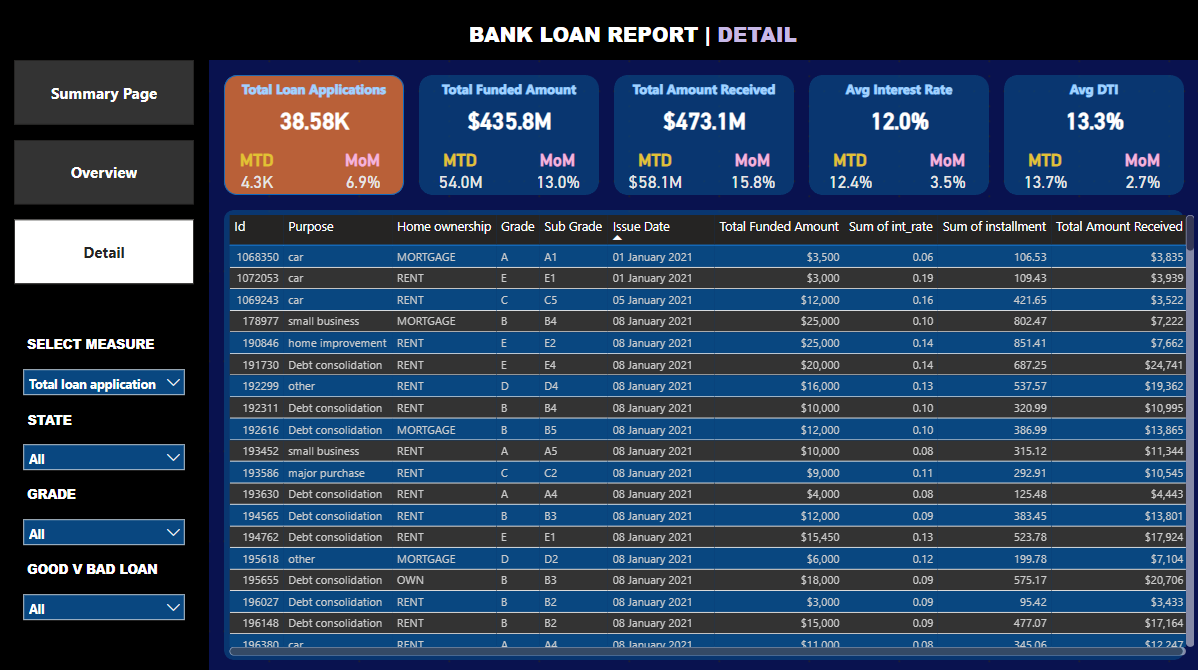

This screenshot's page, from the dashboard's own definition file:
{"tool":"powerbi","page":{"name":"Detail","canvas":[1280,720],"ordinal":2},"visuals":[{"type":"shape","box":[0,0,224,720],"z":0},{"type":"shape","box":[240,80,192,128],"z":0,"group":"g1"},{"type":"shape","box":[448,80,192,128],"z":0,"group":"g2"},{"type":"shape","box":[656,80,192,128],"z":0,"group":"g3"},{"type":"shape","box":[864,80,192,128],"z":0,"group":"g4"},{"type":"shape","box":[1072,80,192,128],"z":0,"group":"g5"},{"type":"shape","box":[240,224,1024,480],"z":1000},{"type":"shape","box":[0,0,1280,64],"z":2000},{"type":"textbox","box":[496,16,416,48],"z":3000},{"type":"group","id":"g1","title":"Group 1","box":[240,80,192,128],"z":4000},{"type":"card","fields":{"Values":["bank_loan.Total loan application"]},"box":[274.9,112,122.2,32],"z":4000,"group":"g1"},{"type":"card","fields":{"Values":["bank_loan.Total funded amount"]},"box":[482.9,112,122.2,32],"z":4000,"group":"g2"},{"type":"card","fields":{"Values":["bank_loan.Total amount received"]},"box":[690.9,112,122.2,32],"z":4000,"group":"g3"},{"type":"card","fields":{"Values":["bank_loan.avg int rate"]},"box":[898.9,112,122.2,32],"z":4000,"group":"g4"},{"type":"card","fields":{"Values":["bank_loan.Avg Dti"]},"box":[1106.9,112,122.2,32],"z":4000,"group":"g5"},{"type":"textbox","box":[240,80,192,32],"z":5000,"group":"g1"},{"type":"group","id":"g2","title":"Group 2","box":[448,80,192,128],"z":5000},{"type":"textbox","box":[448,80,192,32],"z":5000,"group":"g2"},{"type":"textbox","box":[656,80,192,32],"z":5000,"group":"g3"},{"type":"textbox","box":[864,80,192,32],"z":5000,"group":"g4"},{"type":"textbox","box":[1072,80,192,32],"z":5000,"group":"g5"},{"type":"group","id":"g3","title":"Group 2","box":[656,80,192,128],"z":6000},{"type":"card","title":"MTD","fields":{"Values":["bank_loan.MTD loan application"]},"box":[240,160,69.8,48],"z":6000,"group":"g1"},{"type":"card","title":"MTD","fields":{"Values":["bank_loan.MTD funded amount"]},"box":[448,160,87.3,48],"z":6000,"group":"g2"},{"type":"card","title":"MTD","fields":{"Values":["bank_loan.MTD amount received"]},"box":[656,160,87.3,48],"z":6000,"group":"g3"},{"type":"card","title":"MTD","fields":{"Values":["bank_loan.MTD int rate"]},"box":[864,160,87.3,48],"z":6000,"group":"g4"},{"type":"card","title":"MTD","fields":{"Values":["bank_loan.MTD dti"]},"box":[1072,160,87.3,48],"z":6000,"group":"g5"},{"type":"group","id":"g4","title":"Group 2","box":[864,80,192,128],"z":7000},{"type":"card","title":"MoM","fields":{"Values":["bank_loan.mom loan application"]},"box":[362.2,160,52.4,48],"z":7000,"group":"g1"},{"type":"card","title":"MoM","fields":{"Values":["bank_loan.mom funded amount"]},"box":[552.7,160,87.3,48],"z":7000,"group":"g2"},{"type":"card","title":"MoM","fields":{"Values":["bank_loan.mom amount received"]},"box":[760.7,160,87.3,48],"z":7000,"group":"g3"},{"type":"card","title":"MoM","fields":{"Values":["bank_loan.mom int rate"]},"box":[968.7,160,87.3,48],"z":7000,"group":"g4"},{"type":"card","title":"MoM","fields":{"Values":["bank_loan.mom dti"]},"box":[1176.7,160,87.3,48],"z":7000,"group":"g5"},{"type":"group","id":"g5","title":"Group 2","box":[1072,80,192,128],"z":8000},{"type":"tableEx","fields":{"Values":["bank_loan.id","bank_loan.purpose","bank_loan.home_ownership","bank_loan.grade","bank_loan.sub_grade","bank_loan.issue_date","bank_loan.Total funded amount","Sum(bank_loan.int_rate)","Sum(bank_loan.installment)","bank_loan.Total amount received"]},"box":[240,224,1040,480],"z":9000},{"type":"pageNavigator","box":[16,64,192,240],"z":10000},{"type":"slicer","fields":{"Values":["Select Measure.Select Measure"]},"box":[16,384,192,48],"z":11000},{"type":"textbox","box":[16,432,96,32],"z":12000},{"type":"textbox","box":[16,512,112,32],"z":13000},{"type":"textbox","box":[16,352,176,32],"z":14000},{"type":"textbox","box":[16,592,176,32],"z":15000},{"type":"slicer","fields":{"Values":["bank_loan.address_state"]},"box":[16,464,192,48],"z":16000},{"type":"slicer","fields":{"Values":["bank_loan.good v bad loan"]},"box":[16,624,192,48],"z":17000},{"type":"slicer","fields":{"Values":["bank_loan.grade"]},"box":[16,544,192,48],"z":18000}]}

Visuals, with their boxes in screenshot pixels (x1, y1, x2, y2), scaled from the page's 1280x720 canvas onto the 1198x670 screenshot:
shape: x1=0, y1=0, x2=210, y2=669
shape: x1=225, y1=74, x2=404, y2=194
shape: x1=419, y1=74, x2=599, y2=194
shape: x1=614, y1=74, x2=794, y2=194
shape: x1=809, y1=74, x2=988, y2=194
shape: x1=1003, y1=74, x2=1183, y2=194
shape: x1=225, y1=208, x2=1183, y2=655
shape: x1=0, y1=0, x2=1197, y2=60
textbox: x1=464, y1=15, x2=854, y2=60
"Group 1" group: x1=225, y1=74, x2=404, y2=194
card - bank_loan.Total loan application: x1=257, y1=104, x2=372, y2=134
card - bank_loan.Total funded amount: x1=452, y1=104, x2=566, y2=134
card - bank_loan.Total amount received: x1=647, y1=104, x2=761, y2=134
card - bank_loan.avg int rate: x1=841, y1=104, x2=956, y2=134
card - bank_loan.Avg Dti: x1=1036, y1=104, x2=1150, y2=134
textbox: x1=225, y1=74, x2=404, y2=104
"Group 2" group: x1=419, y1=74, x2=599, y2=194
textbox: x1=419, y1=74, x2=599, y2=104
textbox: x1=614, y1=74, x2=794, y2=104
textbox: x1=809, y1=74, x2=988, y2=104
textbox: x1=1003, y1=74, x2=1183, y2=104
"Group 2" group: x1=614, y1=74, x2=794, y2=194
"MTD" card: x1=225, y1=149, x2=290, y2=194
"MTD" card: x1=419, y1=149, x2=501, y2=194
"MTD" card: x1=614, y1=149, x2=696, y2=194
"MTD" card: x1=809, y1=149, x2=890, y2=194
"MTD" card: x1=1003, y1=149, x2=1085, y2=194
"Group 2" group: x1=809, y1=74, x2=988, y2=194
"MoM" card: x1=339, y1=149, x2=388, y2=194
"MoM" card: x1=517, y1=149, x2=599, y2=194
"MoM" card: x1=712, y1=149, x2=794, y2=194
"MoM" card: x1=907, y1=149, x2=988, y2=194
"MoM" card: x1=1101, y1=149, x2=1183, y2=194
"Group 2" group: x1=1003, y1=74, x2=1183, y2=194
tableEx - bank_loan.id x bank_loan.purpose: x1=225, y1=208, x2=1197, y2=655
pageNavigator: x1=15, y1=60, x2=195, y2=283
slicer - Select Measure.Select Measure: x1=15, y1=357, x2=195, y2=402
textbox: x1=15, y1=402, x2=105, y2=432
textbox: x1=15, y1=476, x2=120, y2=506
textbox: x1=15, y1=328, x2=180, y2=357
textbox: x1=15, y1=551, x2=180, y2=581
slicer - bank_loan.address_state: x1=15, y1=432, x2=195, y2=476
slicer - bank_loan.good v bad loan: x1=15, y1=581, x2=195, y2=625
slicer - bank_loan.grade: x1=15, y1=506, x2=195, y2=551
